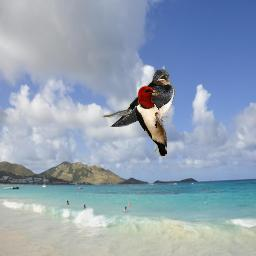Swallow: (102, 69, 175, 127)
Woodpecker: (135, 86, 167, 156)
